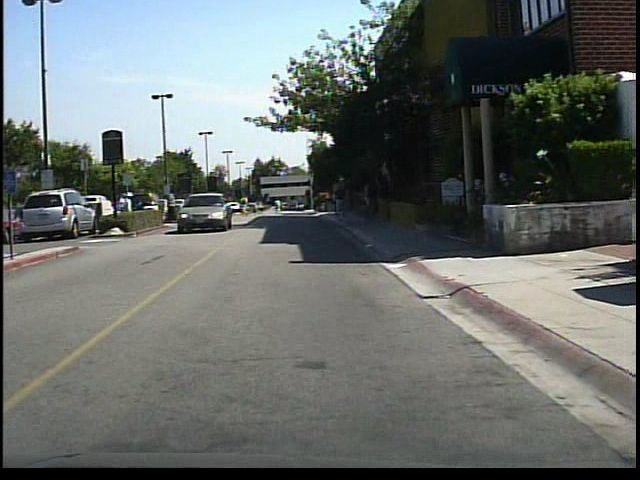person: (116, 190, 131, 230), (165, 185, 180, 225), (125, 187, 138, 229), (239, 189, 253, 218), (341, 177, 342, 218)
